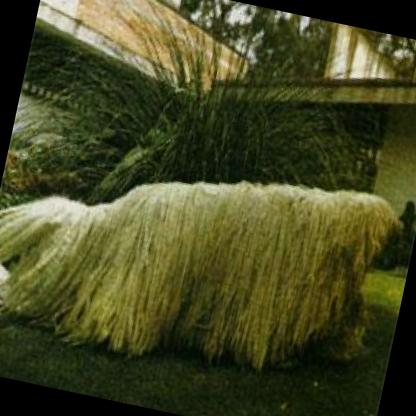komondor: (0, 114, 414, 410)
